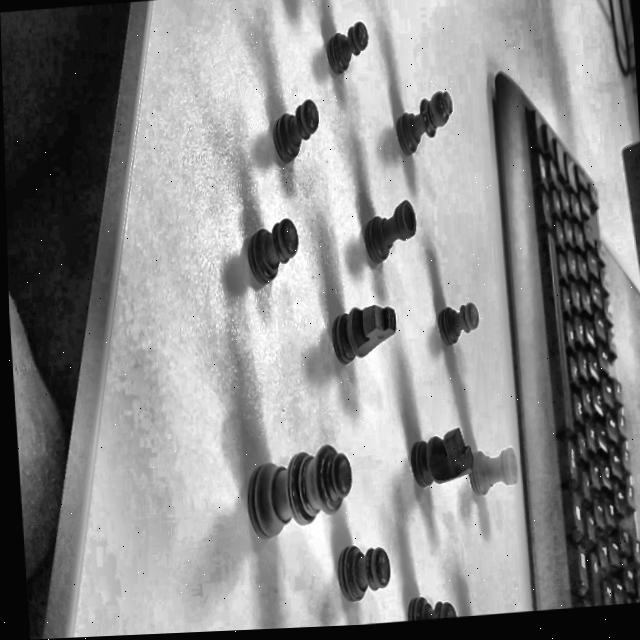black-bishop: (391, 79, 460, 167)
black-knight: (321, 294, 404, 379), (404, 420, 474, 496)
black-pawn: (329, 530, 397, 623), (238, 203, 306, 294), (265, 83, 327, 178), (317, 4, 376, 89), (425, 295, 487, 364), (397, 586, 459, 621)
black-queen: (238, 429, 360, 545)
black-rook: (359, 194, 420, 280), (465, 441, 521, 502)
